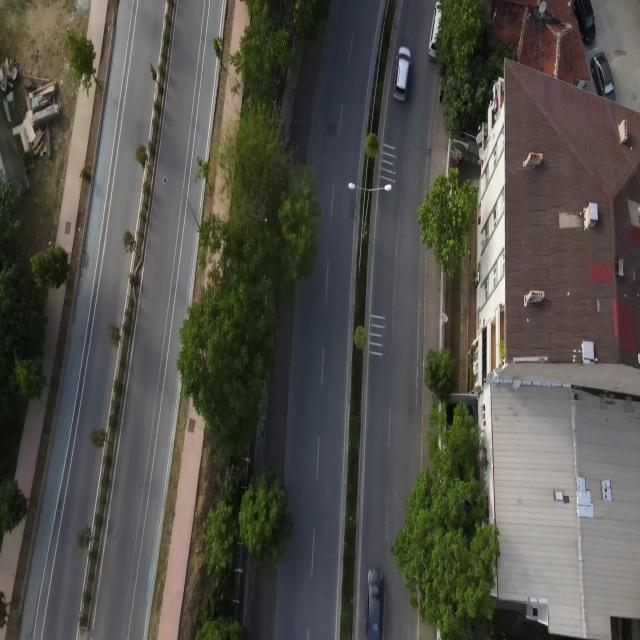p3rson: (440, 88, 444, 103)
